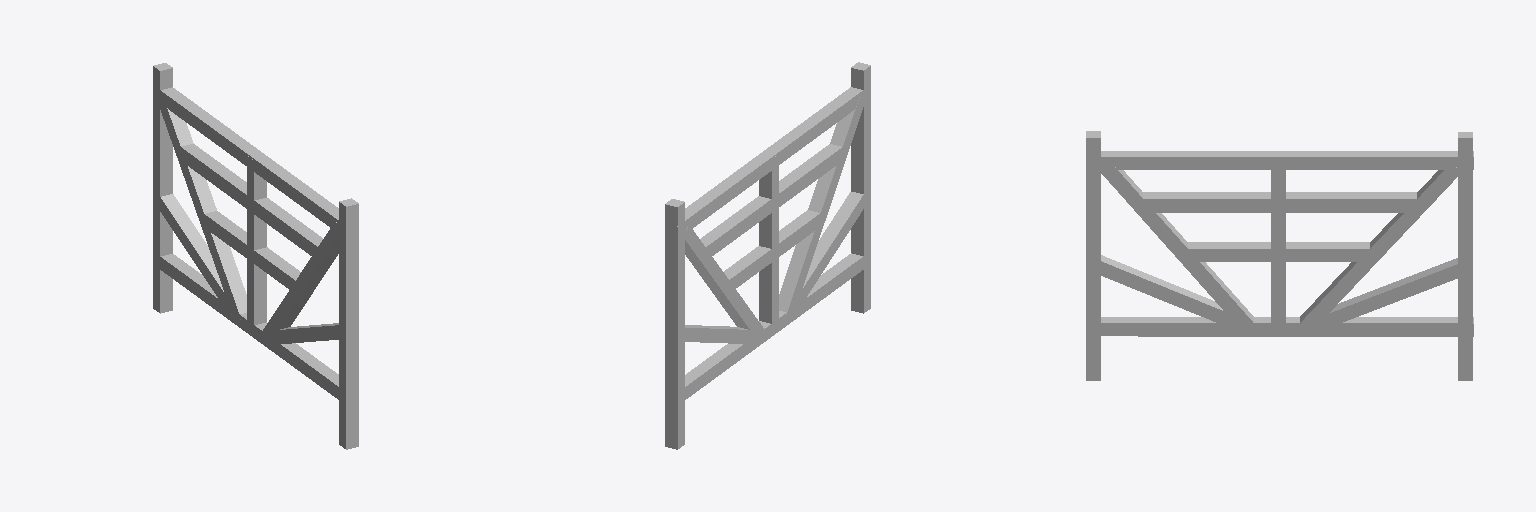
File: fence.obj
3 renders of one model, left to right at view 1: azimuth 30°, elevation 25°; view 2: azimuth 150°, elevation 25°; view 3: azimuth 270°, elevation 25°, orthographic.
Parts seen in each view (by area): view 1: Plane; view 2: Plane; view 3: Plane.
Part boxes in pixels (left/top/right/bottom): Plane: left=153, top=63, right=358, bottom=449; Plane: left=665, top=62, right=870, bottom=449; Plane: left=1086, top=131, right=1473, bottom=380.
Bounding box in the file's own units: 0.2351 × 4.2 × 6.06.